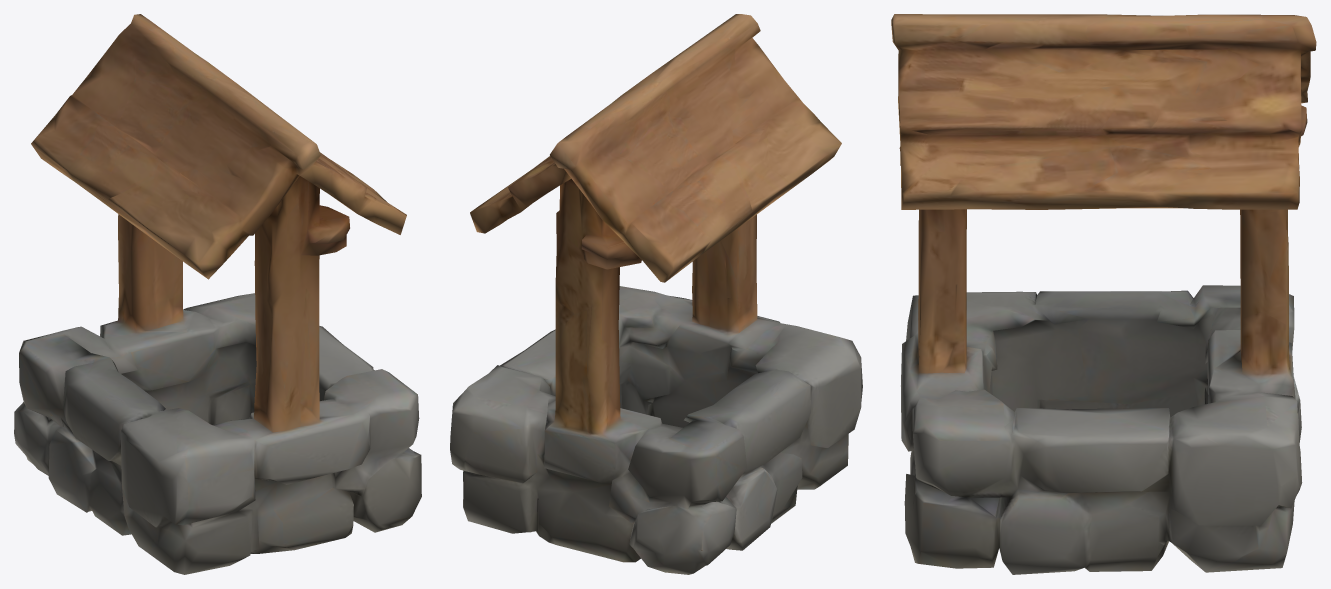
The model's file is wishing-well.glb.
The picture shows the model from 3 angles, left to right: view 1: azimuth 30°, elevation 25°; view 2: azimuth 150°, elevation 25°; view 3: azimuth 270°, elevation 25°; orthographic projection. The views are drawn at different scales.
Visible parts, largest first — view 1: tripo_node_2c721e6c-5fdc-4626-ada0-17602b721cba; view 2: tripo_node_2c721e6c-5fdc-4626-ada0-17602b721cba; view 3: tripo_node_2c721e6c-5fdc-4626-ada0-17602b721cba.
Boxes of the visible parts, bbox=[...] form: tripo_node_2c721e6c-5fdc-4626-ada0-17602b721cba: bbox=[14, 14, 421, 574]; tripo_node_2c721e6c-5fdc-4626-ada0-17602b721cba: bbox=[450, 14, 862, 574]; tripo_node_2c721e6c-5fdc-4626-ada0-17602b721cba: bbox=[891, 14, 1316, 574].
Bounding box in the file's own units: 0.6622 × 1 × 0.7894.
Materials: 1 (1 with a texture image).
